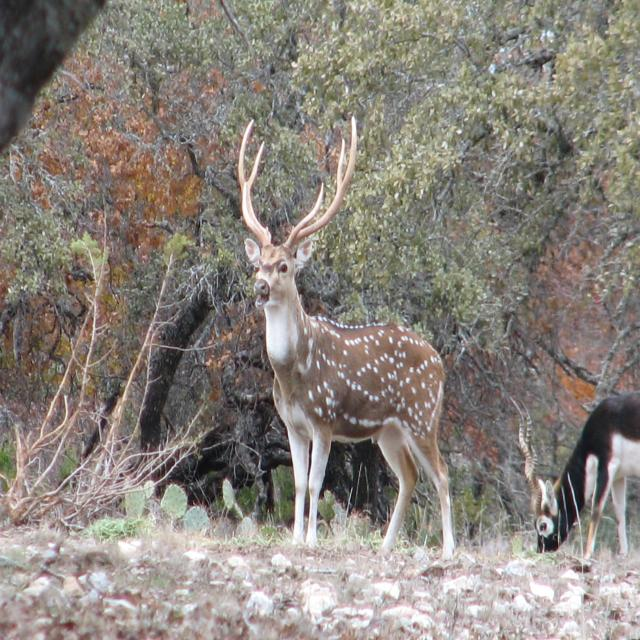not_pig: (236, 114, 455, 560), (508, 390, 640, 561)
